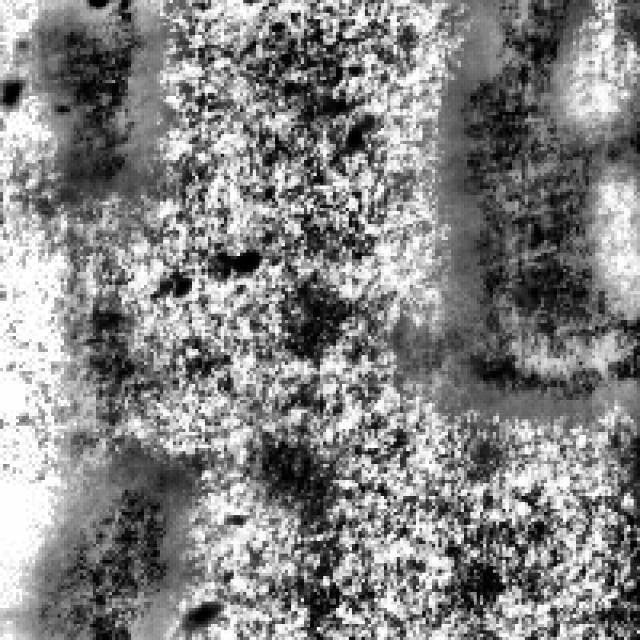Scratches: (432, 0, 630, 400), (16, 451, 176, 637), (32, 4, 154, 182)
